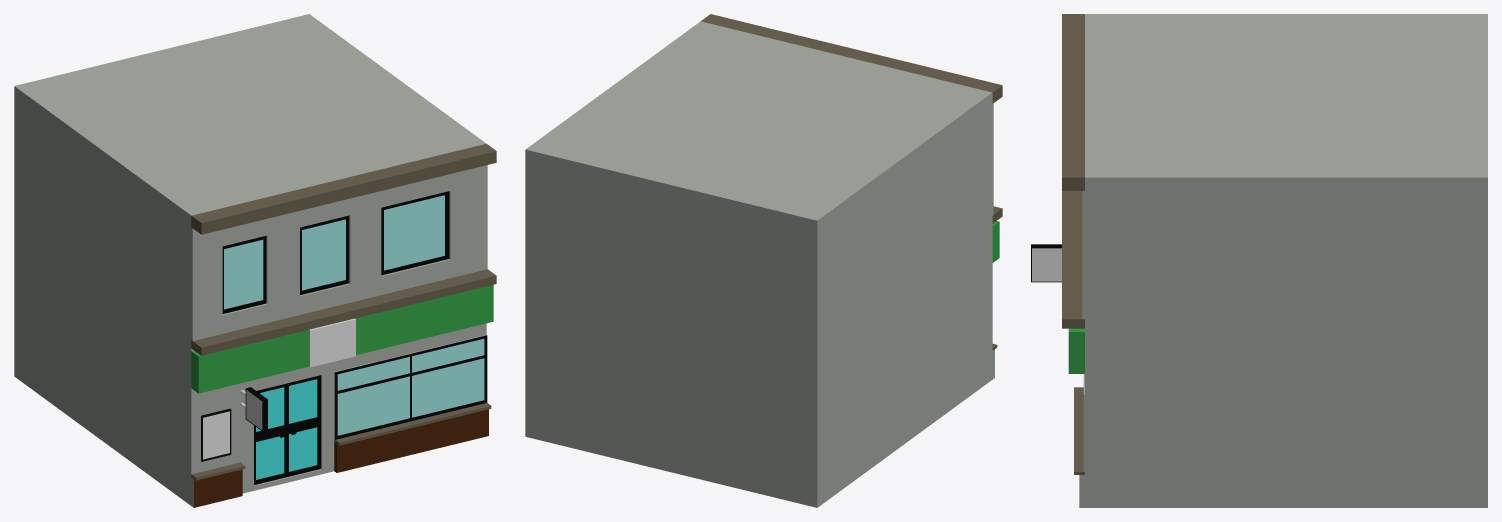
The model's file is 7ELEVEN2.fbx.
3 renders of one model, left to right at view 1: azimuth 30°, elevation 25°; view 2: azimuth 150°, elevation 25°; view 3: azimuth 270°, elevation 25°, orthographic. The views are drawn at different scales.
Visible parts, largest first — view 1: Cube, Cube.002, Cube.001, Cube.006; view 2: Cube; view 3: Cube, Cube.006.
Part boxes in pixels (box(x1,y1,x2,y2)): Cube: box(14, 14, 496, 507); Cube.002: box(254, 375, 320, 484); Cube.001: box(201, 408, 231, 461); Cube.006: box(245, 387, 267, 431); Cube: box(525, 14, 1002, 507); Cube: box(1062, 14, 1487, 507); Cube.006: box(1031, 244, 1061, 282).
Bounding box in the file's own units: 1998 × 1878 × 2355.
